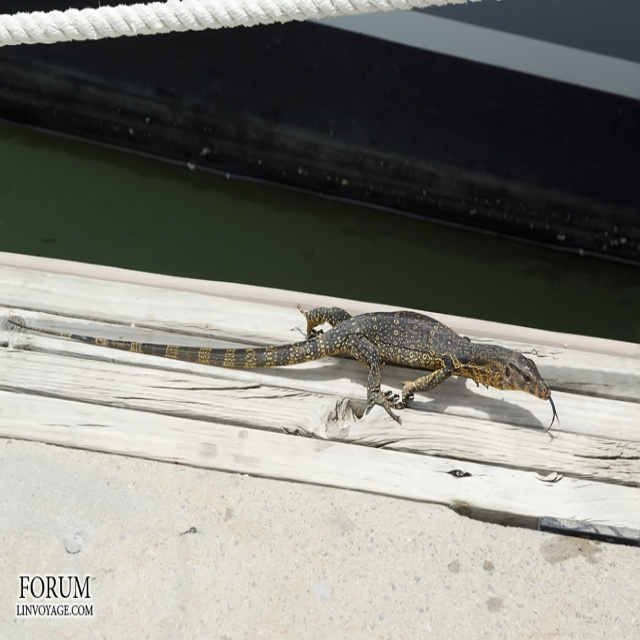Lizard: (8, 315, 557, 424)
